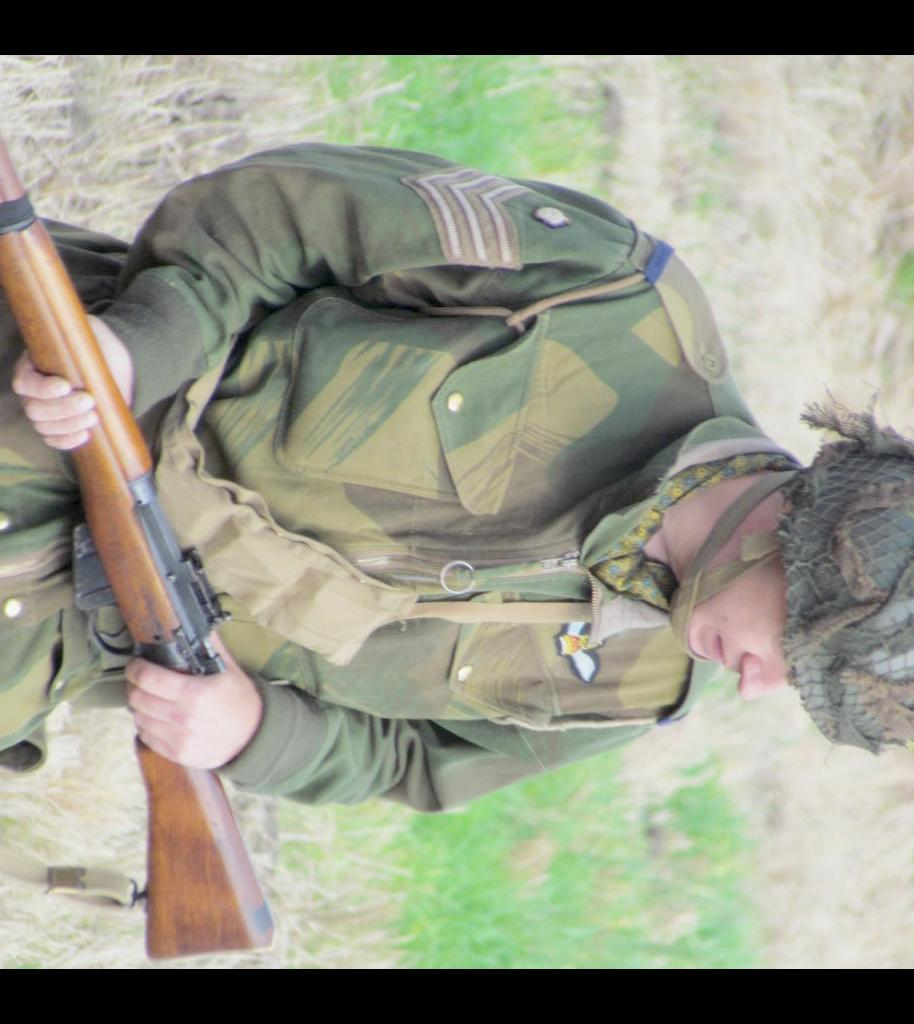gun: (0, 66, 279, 962)
